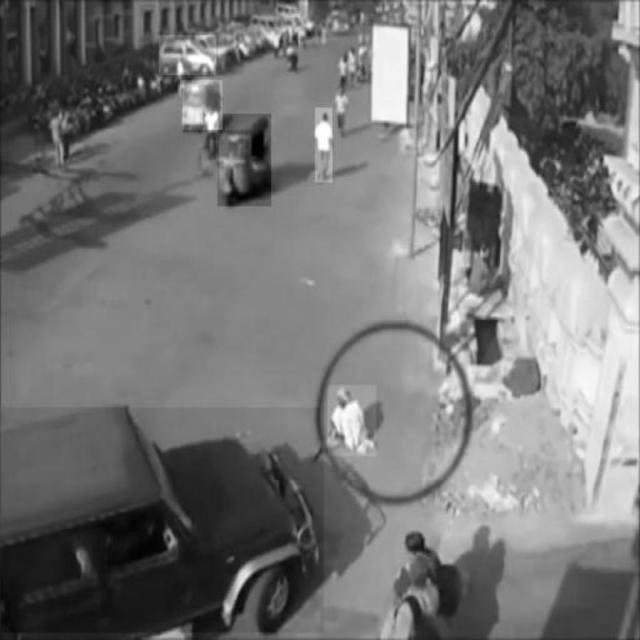person: (328, 386, 376, 457), (315, 108, 332, 182)
vehicle: (2, 408, 324, 632), (218, 114, 272, 206), (159, 35, 216, 75), (182, 80, 223, 130)
